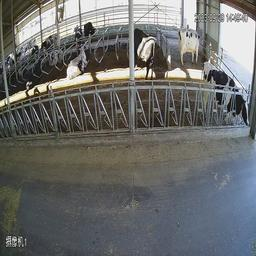cow: (201, 57, 251, 139), (171, 20, 201, 70), (134, 23, 157, 80), (66, 44, 89, 91), (81, 13, 97, 41), (37, 31, 57, 49), (47, 48, 60, 71), (72, 26, 82, 43)
